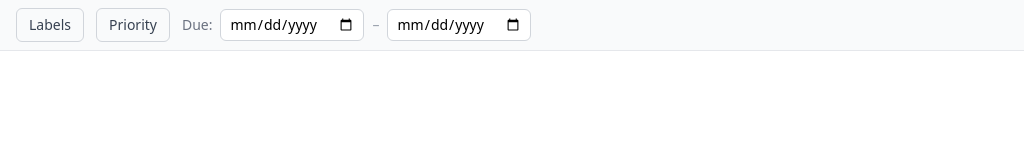
Test: FilterBar › shows task count summary when filters are active
The image size is (1024, 160).
Type "2026-01-01" into the date field named "Due date from" at (292, 25), box x1=220 y1=9 x2=364 y2=41
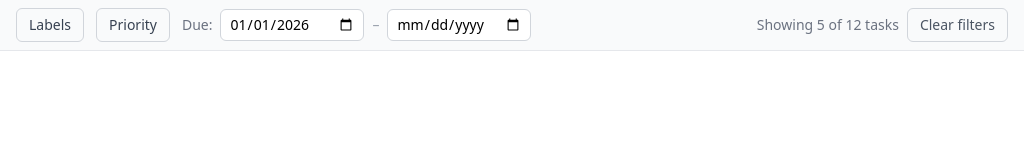
Result: the text "Showing 5 of 12 tasks" is shown at x1=757 y1=15 x2=899 y2=35
